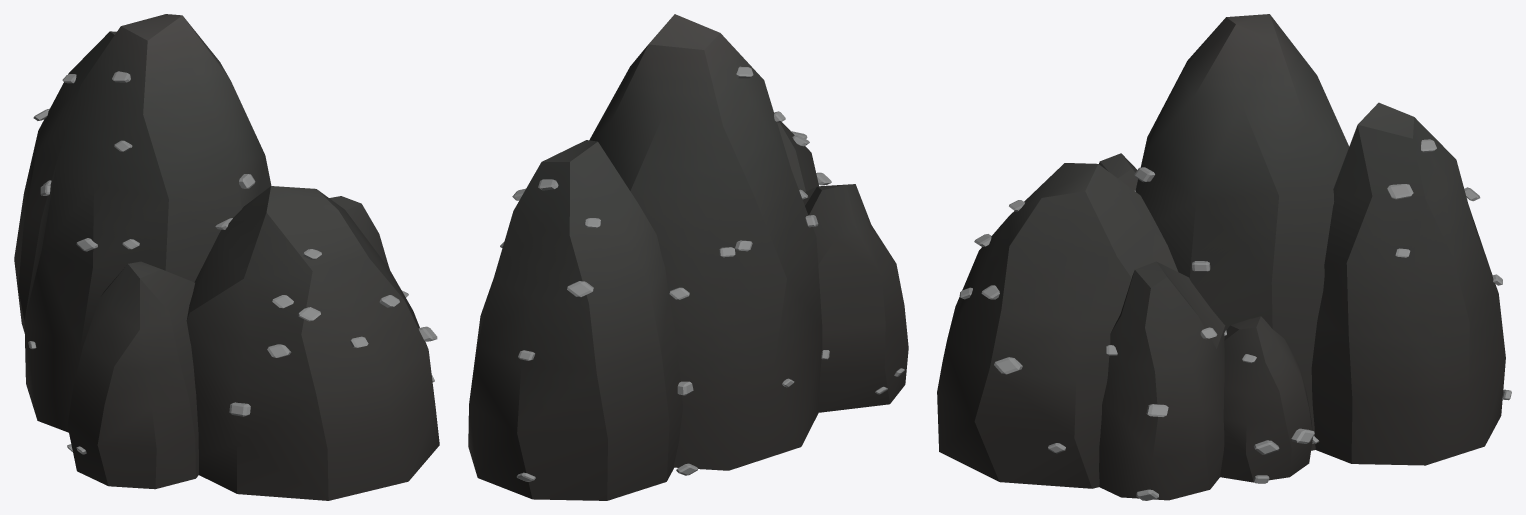
Rendered from IronSource2.fbx.
The picture shows the model from 3 angles, left to right: view 1: azimuth 30°, elevation 25°; view 2: azimuth 150°, elevation 25°; view 3: azimuth 270°, elevation 25°; orthographic projection. The views are drawn at different scales.
Parts seen in each view (by area): view 1: IronSource2_LOD0; view 2: IronSource2_LOD0; view 3: IronSource2_LOD0.
Part boxes in pixels (left/top/right/bottom): IronSource2_LOD0: left=14, top=14, right=439, bottom=500; IronSource2_LOD0: left=468, top=14, right=908, bottom=500; IronSource2_LOD0: left=937, top=14, right=1511, bottom=500.
Size of what is drawn, in the model's own units: 2.57 by 2.69 by 3.6.
